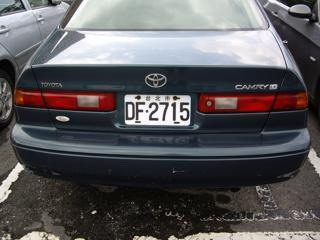plate: (123, 93, 192, 127)
